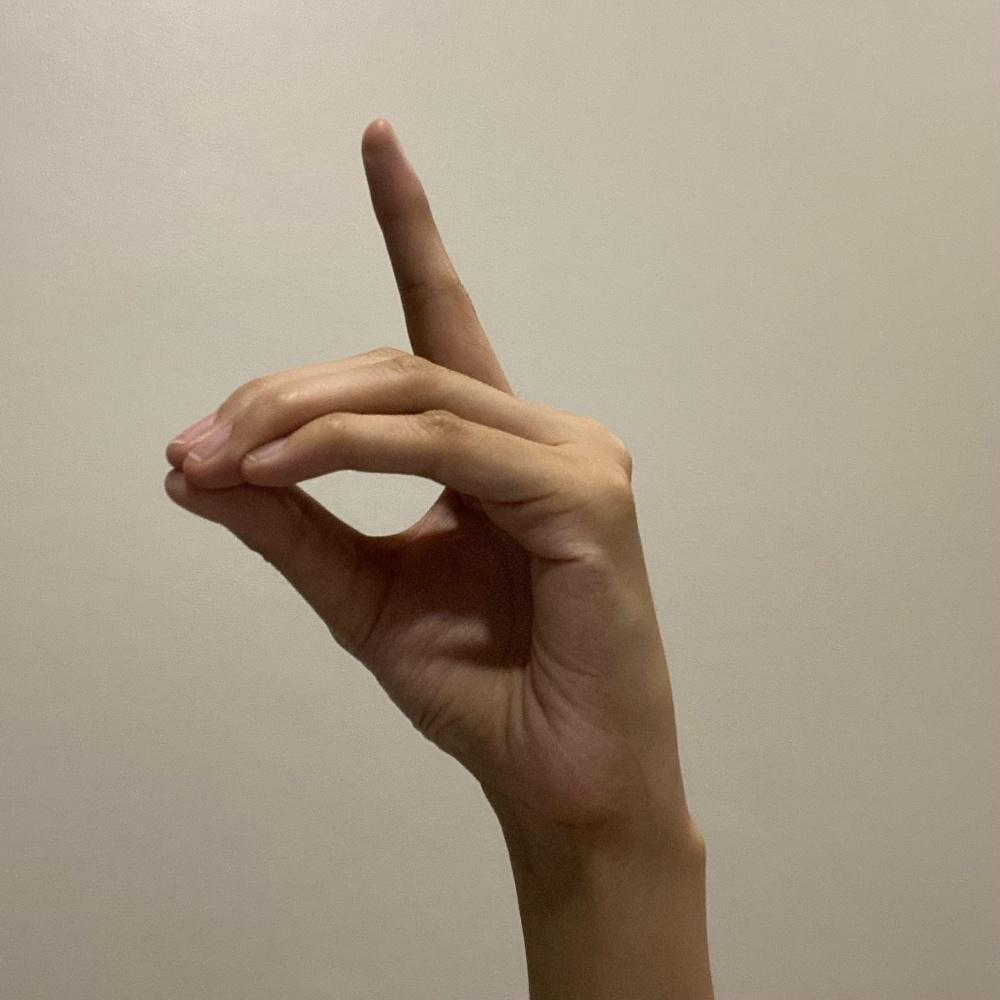d: (150, 110, 685, 842)
